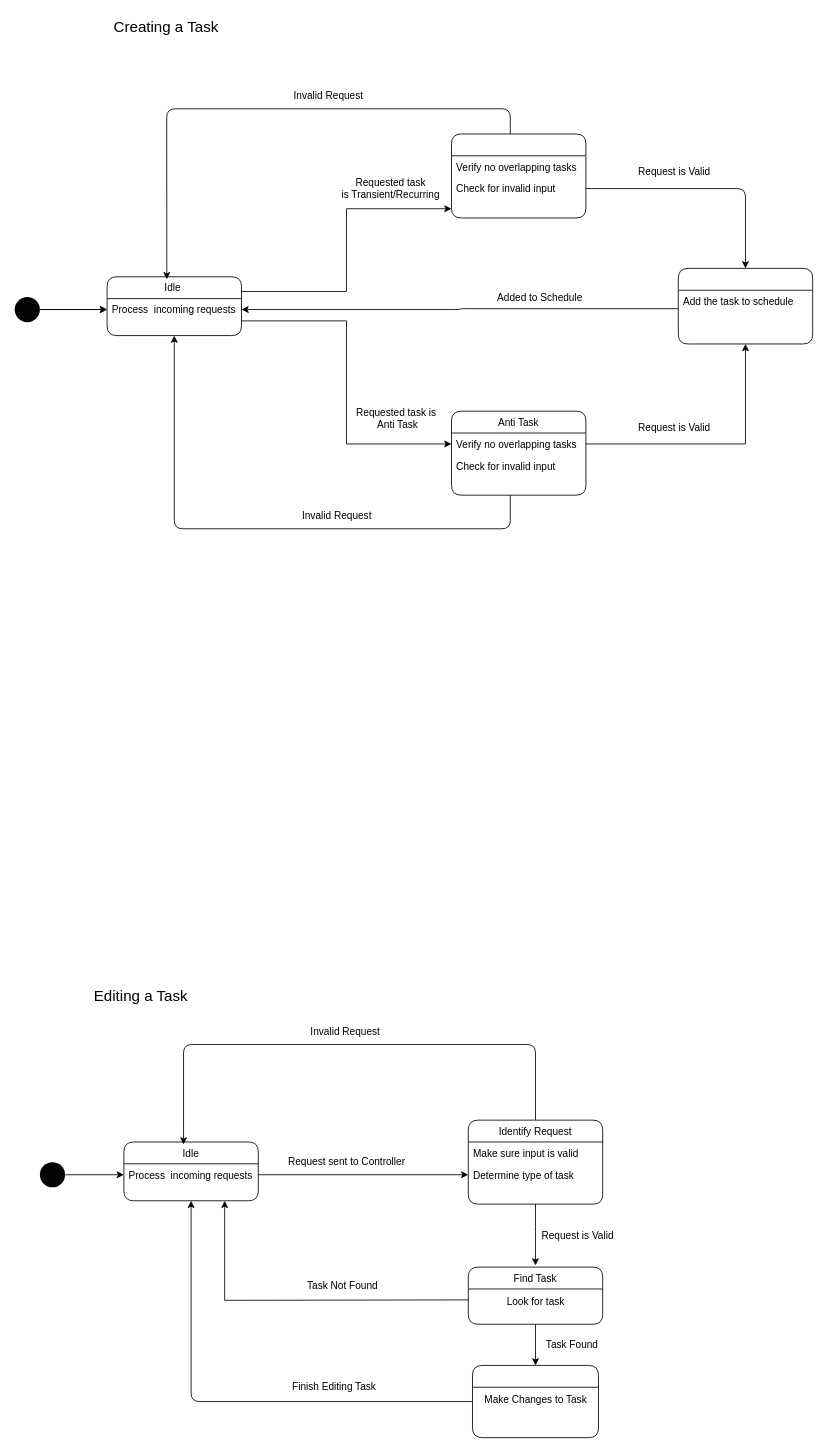
This 827x1452 diagram has some shape labels left out. Here are the shapes that lost their labels. From the top down, the box of each, then its label:
(451, 133, 586, 218): Recurring/ Transient Task
(677, 268, 813, 344): Valid Task
(472, 1365, 598, 1438): Edit Task
